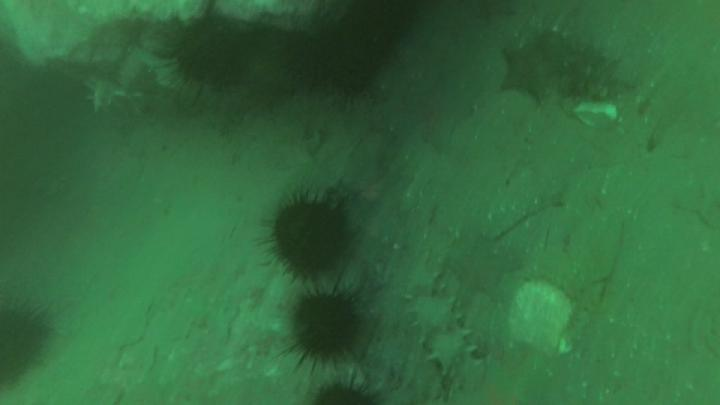echinus: (273, 203, 348, 277), (295, 294, 359, 360), (178, 35, 246, 88), (3, 311, 44, 388)
holothurian: (406, 257, 484, 396)
scallop: (509, 281, 576, 357)
starfish: (504, 41, 562, 103)
